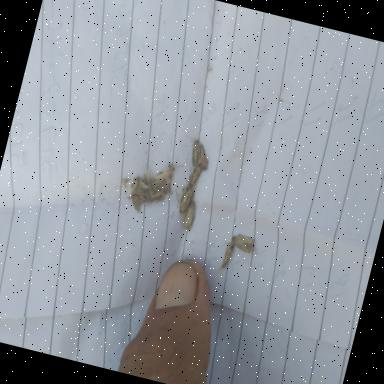pbw: (178, 134, 204, 169), (170, 182, 196, 216), (228, 232, 262, 256), (214, 239, 234, 276), (191, 141, 214, 172), (184, 160, 203, 194), (180, 200, 198, 231)
